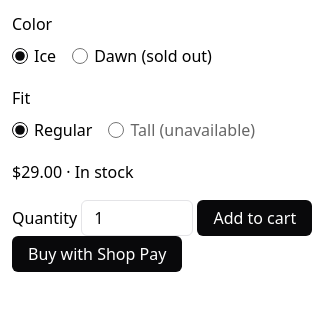
Scenario: ProductPurchase › shows why an add failed
Expected: the text "$29.00 · In stock" is shown, [12,161,134,183]
Click the button "Add to cart". click: x=255, y=218
box: [197,200,312,236]
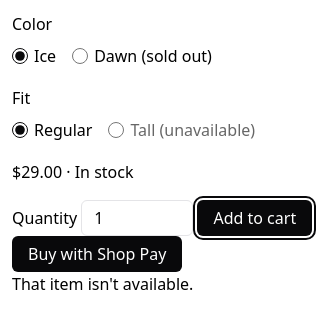
Result: the message reads "That item isn't available." at [12,273,193,295]
